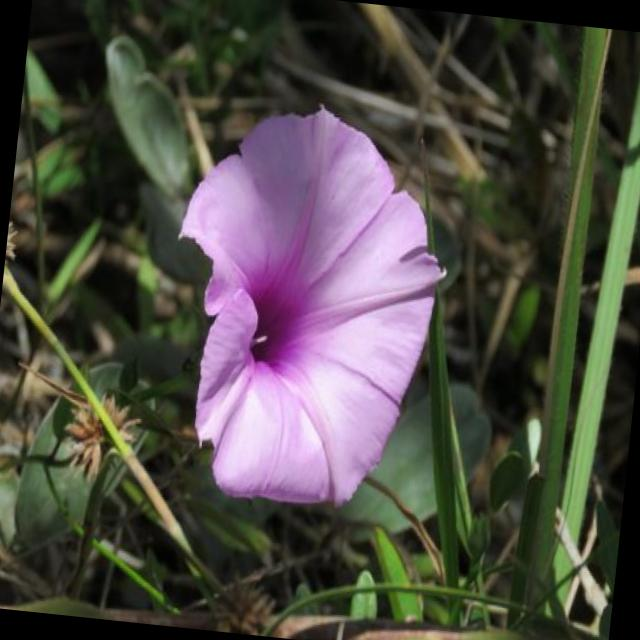ipomoea: (147, 88, 465, 524)
